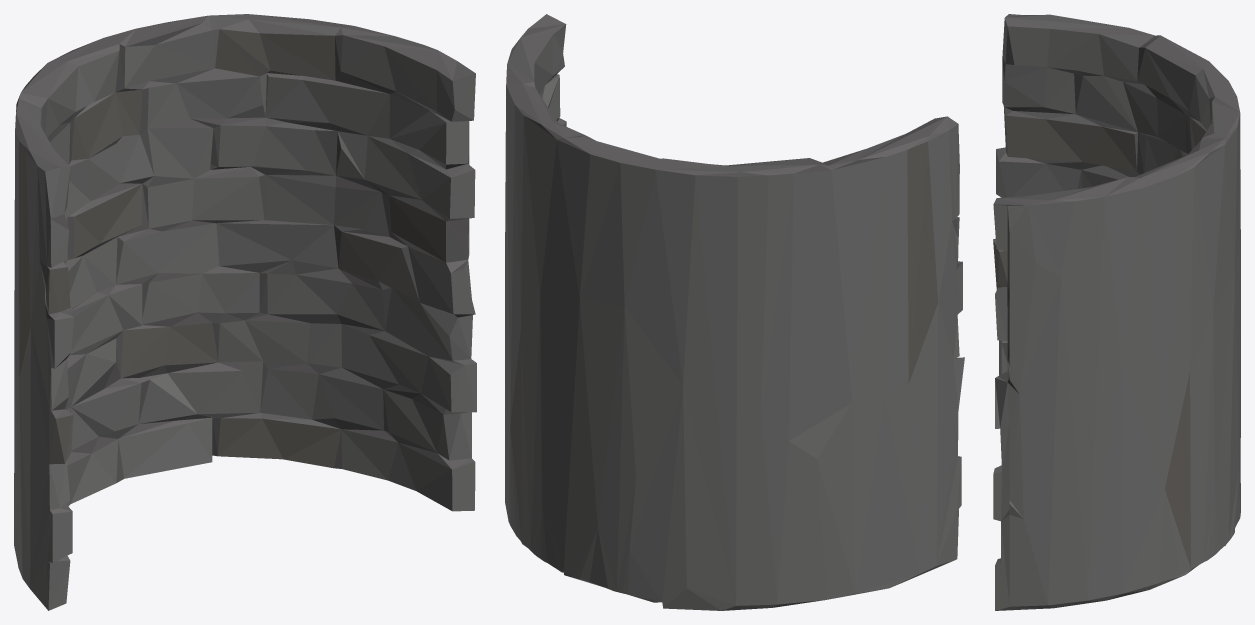
File: SM_Env_Wall_Alcove_Round_01.FBX
3 renders of one model, left to right at view 1: azimuth 30°, elevation 25°; view 2: azimuth 150°, elevation 25°; view 3: azimuth 270°, elevation 25°, orthographic. The views are drawn at different scales.
Visible parts, largest first — view 1: SM_Env_Wall_Alcove_Round_01; view 2: SM_Env_Wall_Alcove_Round_01; view 3: SM_Env_Wall_Alcove_Round_01.
Boxes of the visible parts, <box> form: SM_Env_Wall_Alcove_Round_01: <box>14,14,476,610</box>; SM_Env_Wall_Alcove_Round_01: <box>505,14,964,610</box>; SM_Env_Wall_Alcove_Round_01: <box>993,14,1240,610</box>.
Size of what is drawn, in the model's own units: 506 by 275 by 507.
